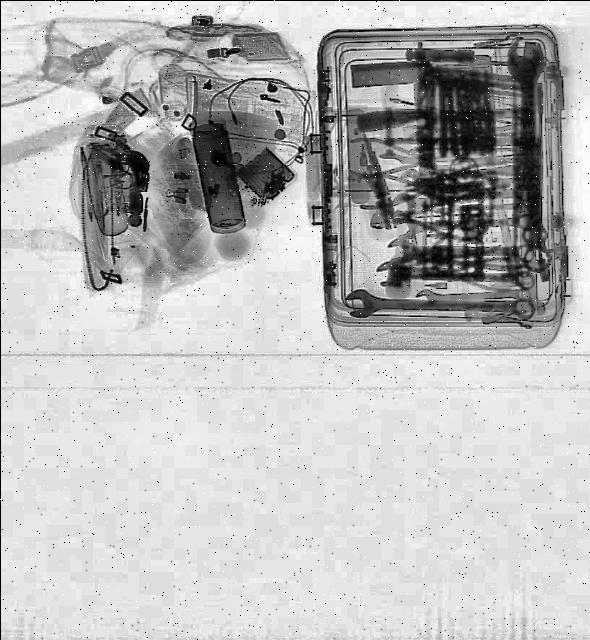Pliers: (346, 139, 440, 179), (357, 170, 441, 210)
Wrench: (505, 39, 555, 248), (374, 258, 536, 294), (342, 290, 533, 320)
